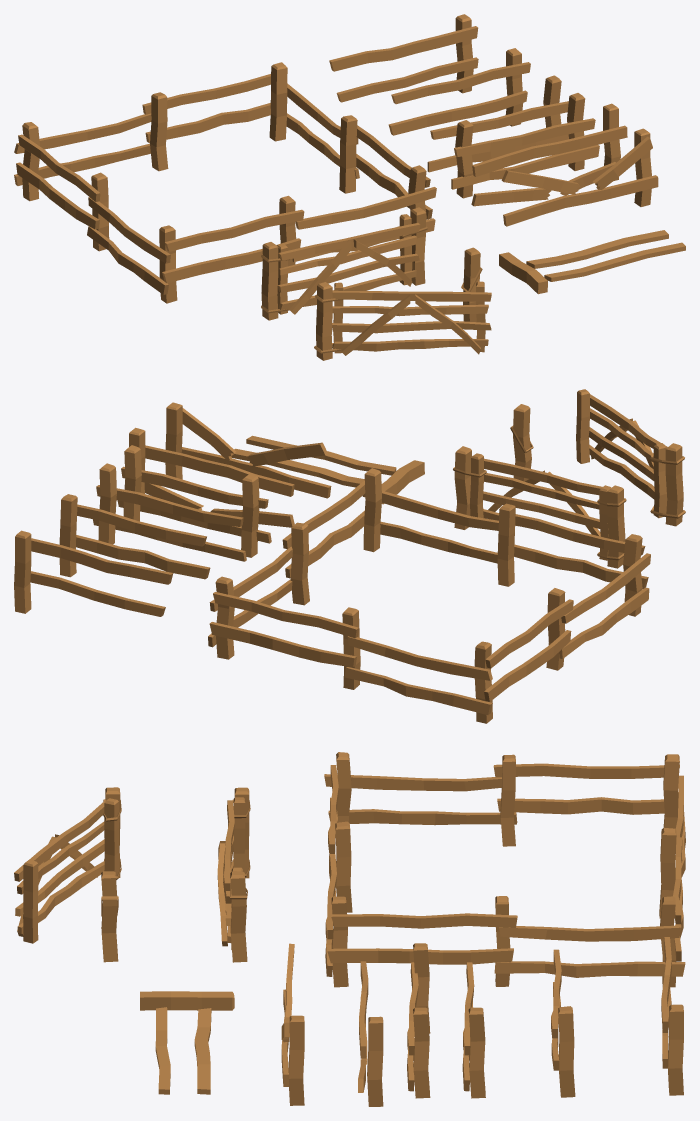
The model's file is _Model_Fences.fbx.
3 views of the same model, one above another, from view 1: azimuth 30°, elevation 25°; view 2: azimuth 150°, elevation 25°; view 3: azimuth 270°, elevation 25° (orthographic). The views are drawn at different scales.
Parts seen in each view (by area): view 1: Fence_Gate_Open, Fence_Gate_Closed, Fence_Corner_2, Fence_Corner_4, Fence_Corner_3, Fence_Corner_1, Fence_1.001, Fence_Damage_2, Fence_3, Fence_Damage_1, Fence_2, Fence_1 (+2 smaller); view 2: Fence_Gate_Closed, Fence_Corner_3, Fence_Gate_Open, Fence_Corner_4, Fence_Corner_1, Fence_Corner_2, Fence_3, Fence_1.001, Fence_2, Fence_Damage_2, Fence_Damage_1, Fence_1 (+2 smaller); view 3: Fence_Gate_Open, Fence_Corner_2, Fence_Corner_1, Fence_Corner_3, Fence_Corner_4, Fence_Gate_Closed, Fence_1.001, Fence_Damage_2, Fence_Damage_1, Fence_3, Fence_Boards, Fence_2 (+2 smaller).
Boxes of the visible parts, box(x1,y1,x2,y2) form: Fence_Gate_Open: box(314, 247, 491, 360); Fence_Gate_Closed: box(261, 207, 427, 320); Fence_Corner_2: box(142, 62, 359, 178); Fence_Corner_4: box(87, 195, 304, 303); Fence_Corner_3: box(14, 113, 151, 251); Fence_Corner_1: box(292, 115, 436, 262); Fence_1.001: box(451, 93, 599, 198); Fence_Damage_2: box(501, 128, 658, 226); Fence_3: box(329, 14, 478, 102); Fence_Damage_1: box(471, 103, 627, 206); Fence_2: box(388, 48, 530, 135); Fence_1: box(427, 75, 568, 172); Fence_Gate_Closed: box(453, 446, 626, 568); Fence_Corner_3: box(344, 588, 573, 723); Fence_Gate_Open: box(510, 389, 685, 526); Fence_Corner_4: box(497, 503, 650, 658); Fence_Corner_1: box(282, 468, 498, 605); Fence_Corner_2: box(208, 546, 360, 689); Fence_3: box(14, 530, 173, 616); Fence_1.001: box(117, 445, 271, 557); Fence_2: box(59, 494, 210, 579); Fence_Damage_2: box(165, 402, 331, 498); Fence_Damage_1: box(129, 427, 294, 527); Fence_1: box(93, 463, 246, 561); Fence_Gate_Open: box(14, 787, 121, 962); Fence_Corner_2: box(494, 827, 685, 987); Fence_Corner_1: box(325, 852, 517, 987); Fence_Corner_3: box(493, 754, 685, 877); Fence_Corner_4: box(324, 752, 517, 912); Fence_Gate_Closed: box(217, 787, 250, 962); Fence_1.001: box(407, 943, 430, 1098); Fence_Damage_2: box(281, 943, 304, 1105); Fence_Damage_1: box(358, 961, 383, 1106); Fence_3: box(661, 937, 683, 1095); Fence_Boards: box(155, 1007, 211, 1094); Fence_2: box(551, 949, 575, 1097).
Bounding box in the file's own units: 0.1613 × 0.0238 × 0.1668.
